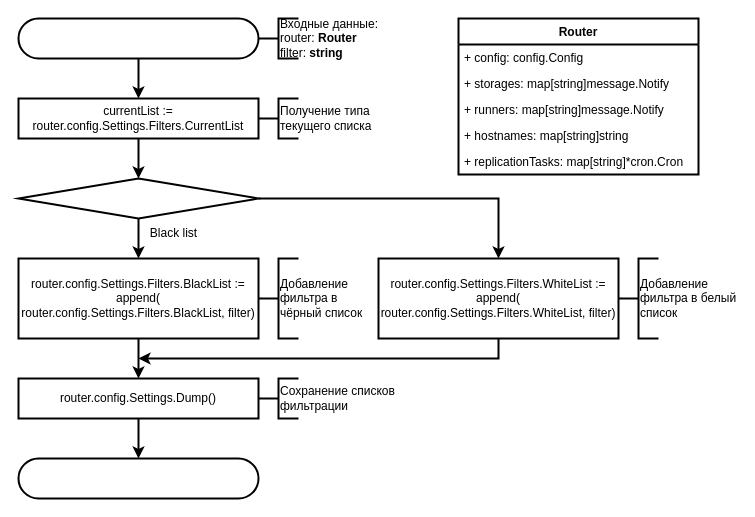
Some shapes in this 755 by 517 pixel diagram are drawn without their labels. The shapes that lost their labels are listed below. From the top down, each one's centre as x and y in pixels, then its label:
point 138,38: Начало
point 138,198: currentList
point 138,478: Конец
